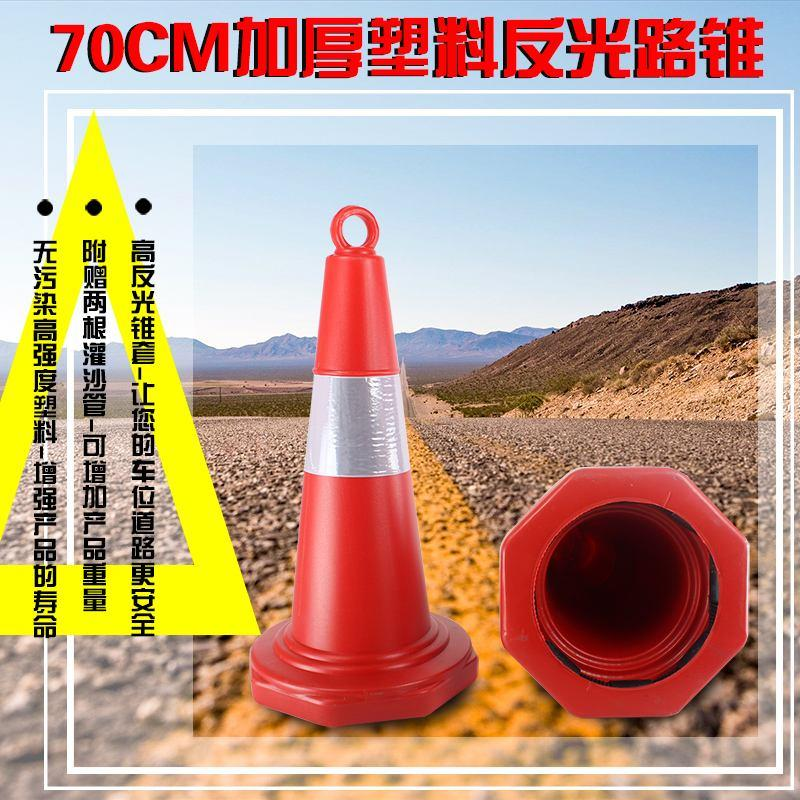sign: (243, 187, 476, 732)
